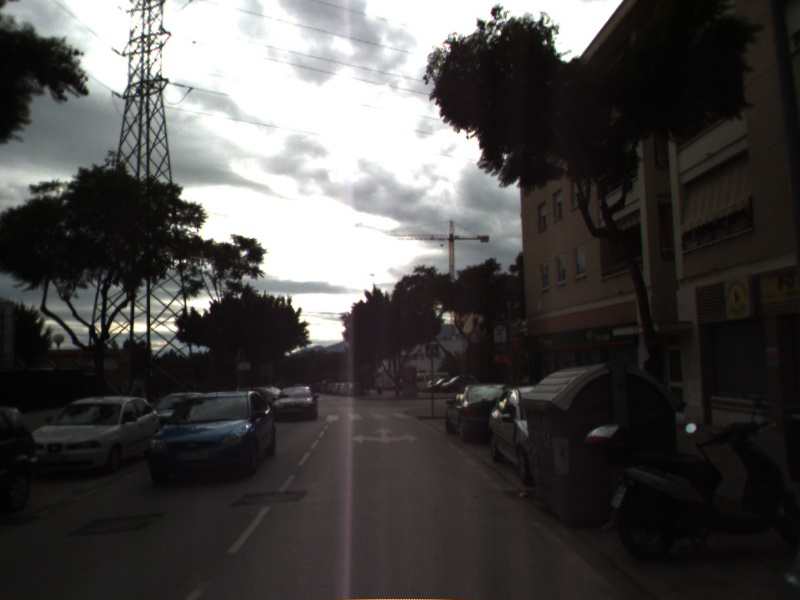STRAIGHT_LEFT_RIGHT: (349, 424, 421, 446)
